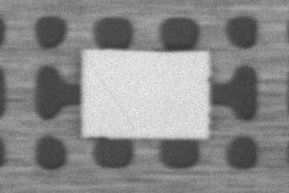DIE_CRACK: (124, 34, 201, 86)
